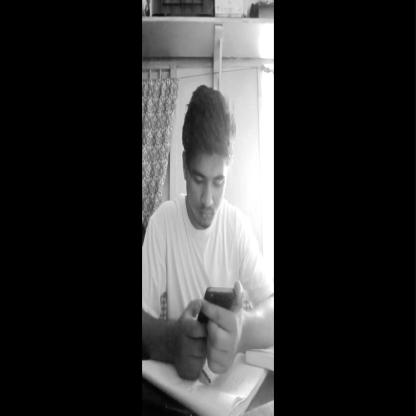Normal: (181, 87, 234, 237)
